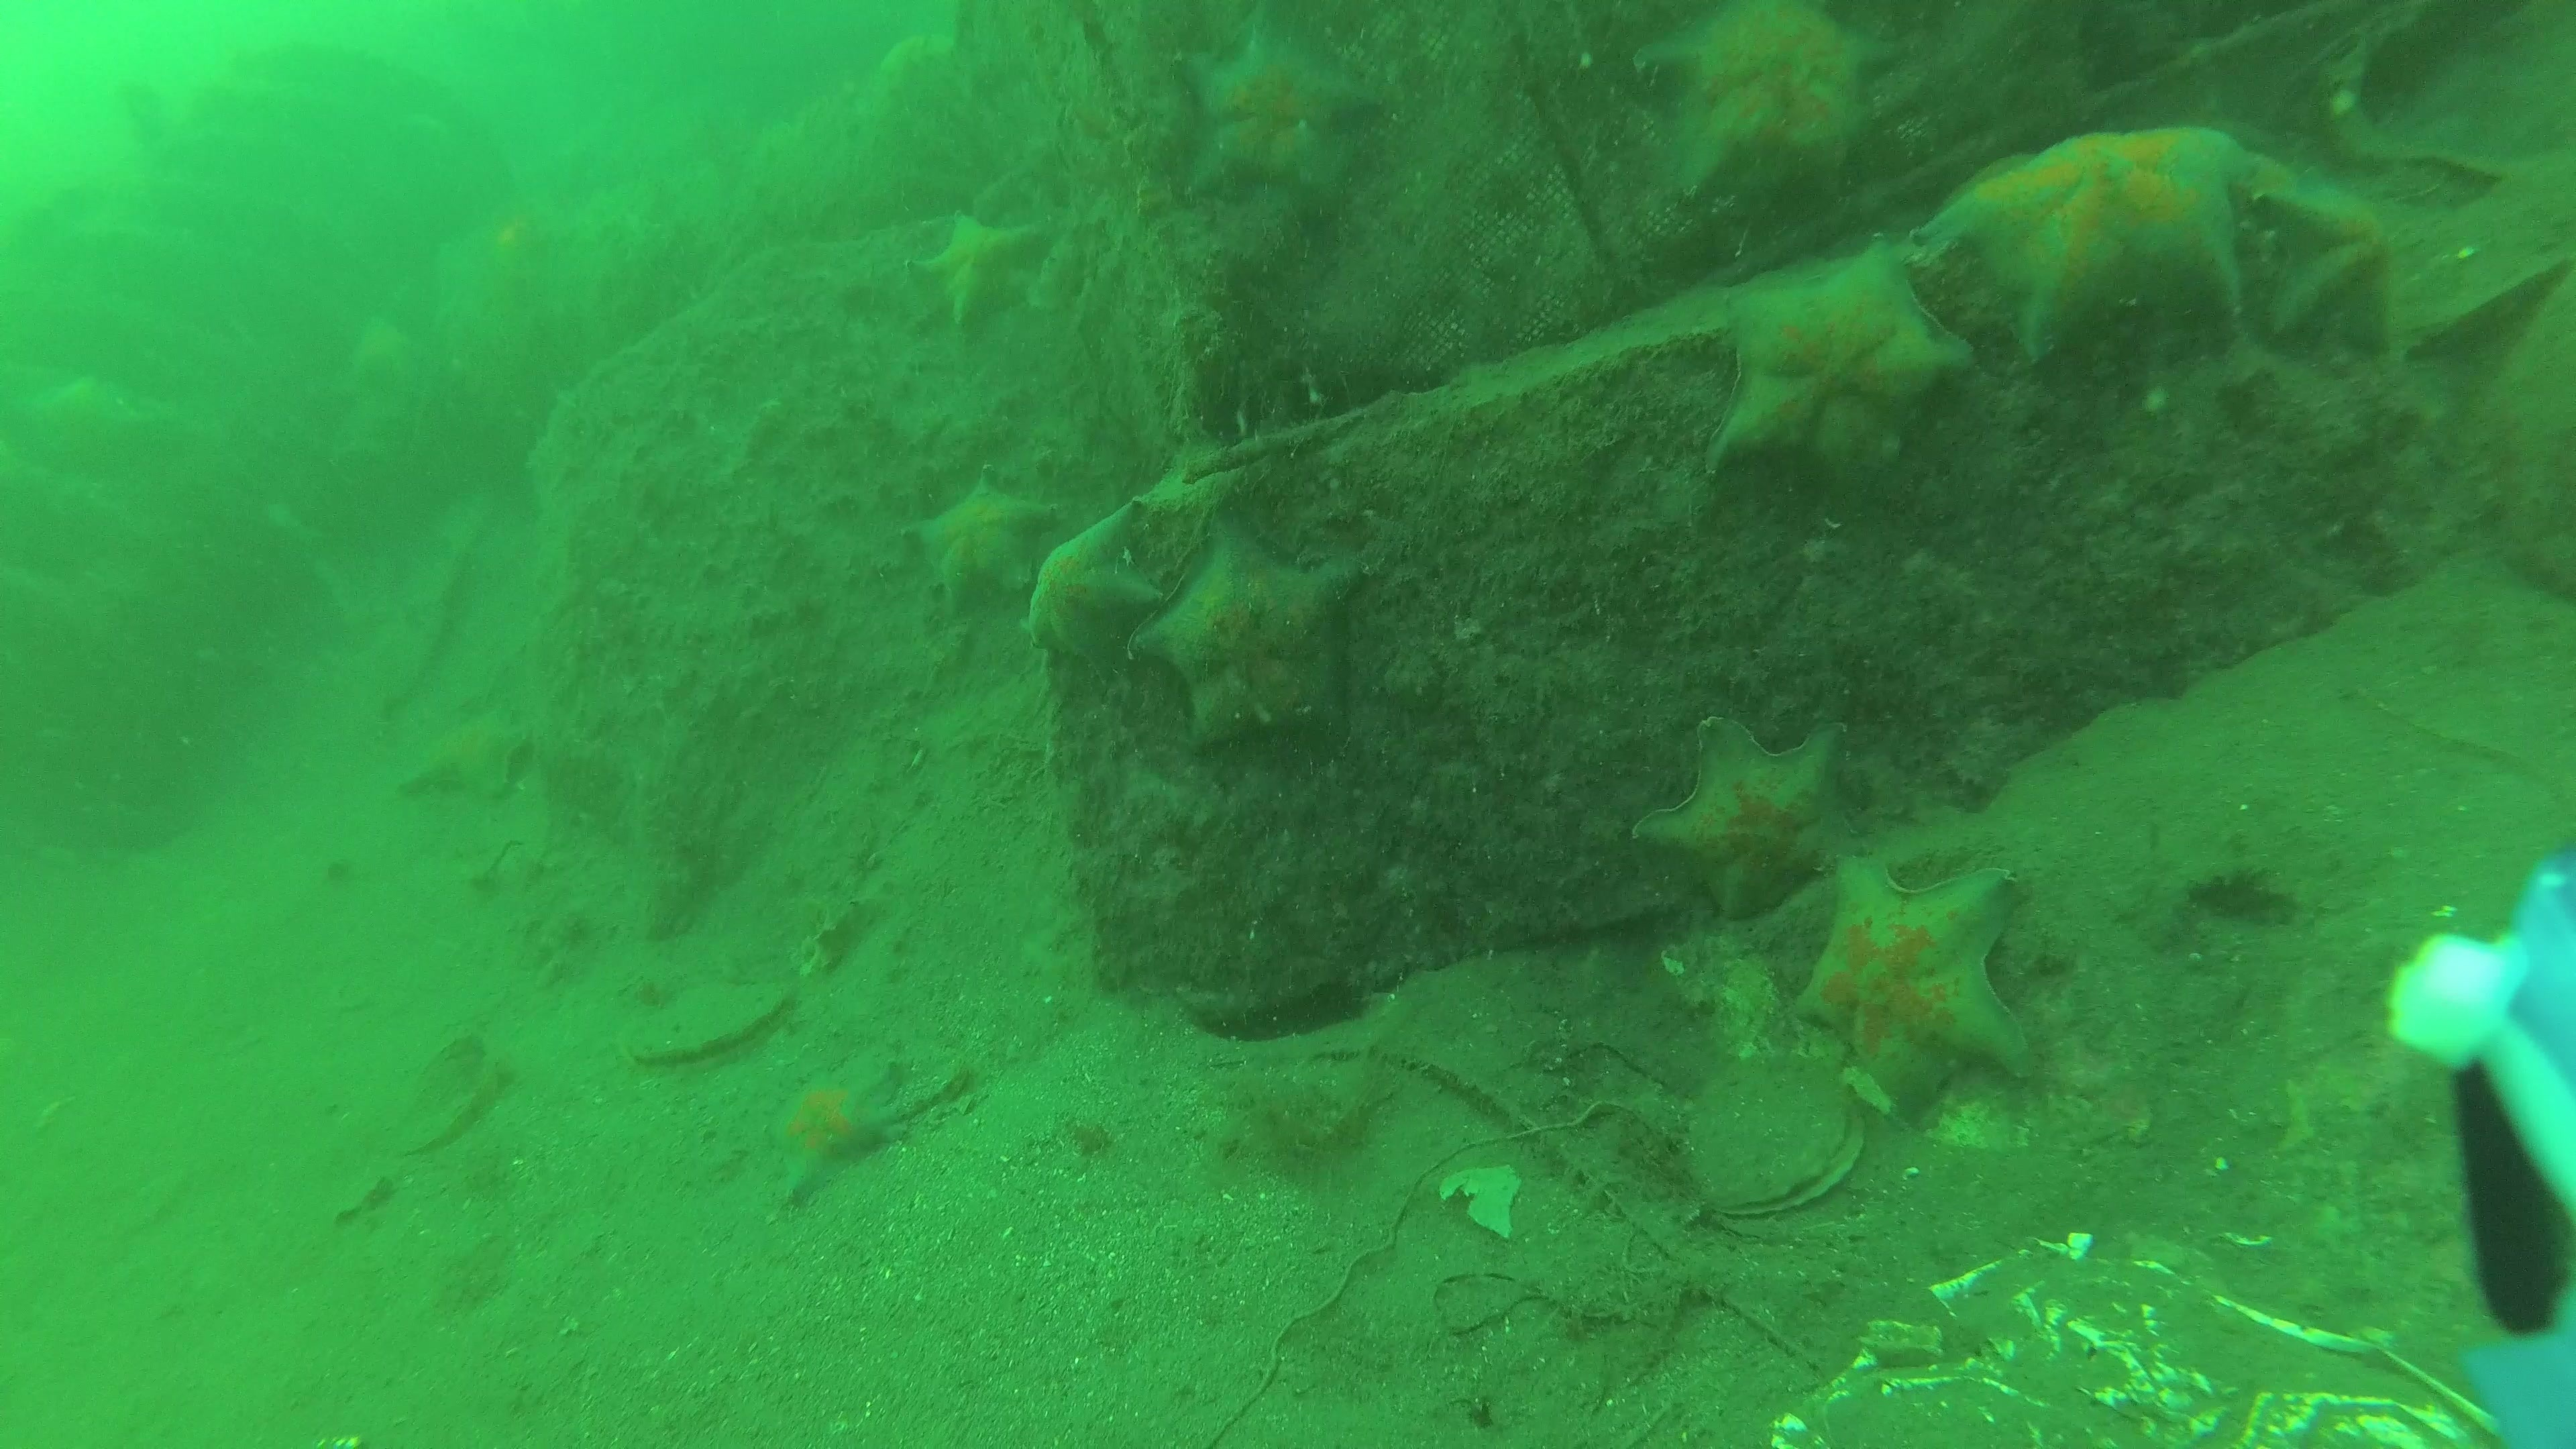scallop: (1679, 1058, 1868, 1215), (619, 980, 794, 1067)
starfish: (1927, 124, 2300, 364), (1790, 849, 2033, 1116), (1713, 237, 1974, 478), (1127, 511, 1382, 752), (1626, 711, 1872, 922), (1637, 5, 1884, 207), (1175, 16, 1384, 209), (761, 1046, 922, 1207), (1023, 497, 1161, 679), (904, 471, 1053, 591), (916, 209, 1054, 326), (393, 704, 543, 805)
